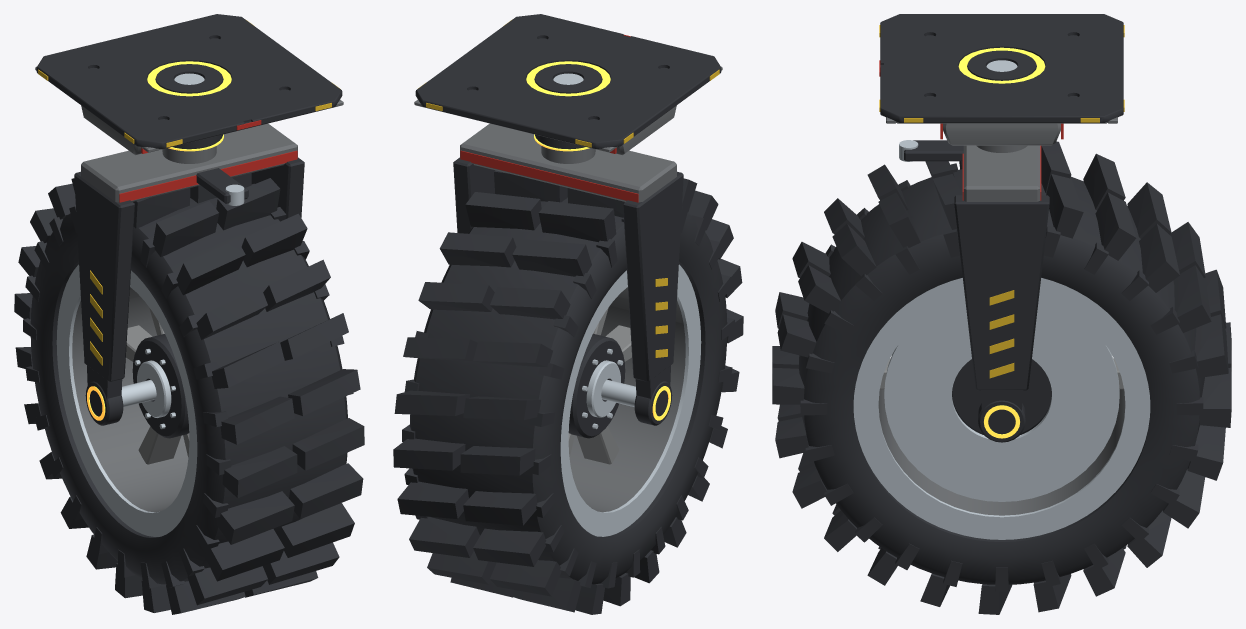
File: R4M_WheelL_Steer_Offroad.glb
The picture shows the model from 3 angles, left to right: view 1: azimuth 30°, elevation 25°; view 2: azimuth 150°, elevation 25°; view 3: azimuth 270°, elevation 25°; orthographic projection. The views are drawn at different scales.
Visible parts, largest first — view 1: R4M_WheelL_Steer_Offroad_Rotor, R4M_WheelL_Steer_Offroad_Mount, R4M_WheelL_Steer_Offroad_Knuckle; view 2: R4M_WheelL_Steer_Offroad_Rotor, R4M_WheelL_Steer_Offroad_Mount, R4M_WheelL_Steer_Offroad_Knuckle; view 3: R4M_WheelL_Steer_Offroad_Rotor, R4M_WheelL_Steer_Offroad_Mount, R4M_WheelL_Steer_Offroad_Knuckle.
Boxes of the visible parts, x1,y1,x2,y2 form: R4M_WheelL_Steer_Offroad_Rotor: (14, 173, 364, 614); R4M_WheelL_Steer_Offroad_Mount: (35, 14, 343, 155); R4M_WheelL_Steer_Offroad_Knuckle: (74, 123, 304, 425); R4M_WheelL_Steer_Offroad_Rotor: (393, 170, 743, 614); R4M_WheelL_Steer_Offroad_Mount: (414, 14, 722, 155); R4M_WheelL_Steer_Offroad_Knuckle: (453, 123, 683, 425); R4M_WheelL_Steer_Offroad_Rotor: (772, 141, 1231, 614); R4M_WheelL_Steer_Offroad_Mount: (879, 14, 1124, 145); R4M_WheelL_Steer_Offroad_Knuckle: (899, 140, 1049, 442).
Size of the model in its own units: 0.5126 by 1.19 by 0.9599.
